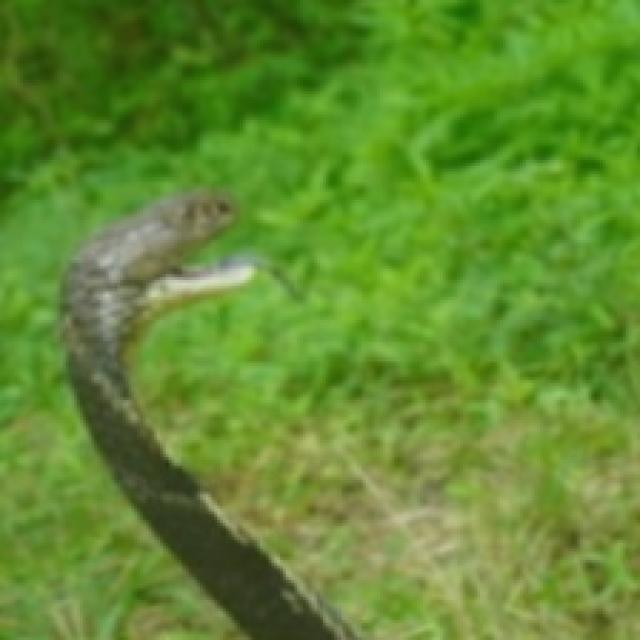king cobra: (63, 191, 357, 637), (63, 191, 354, 637)
